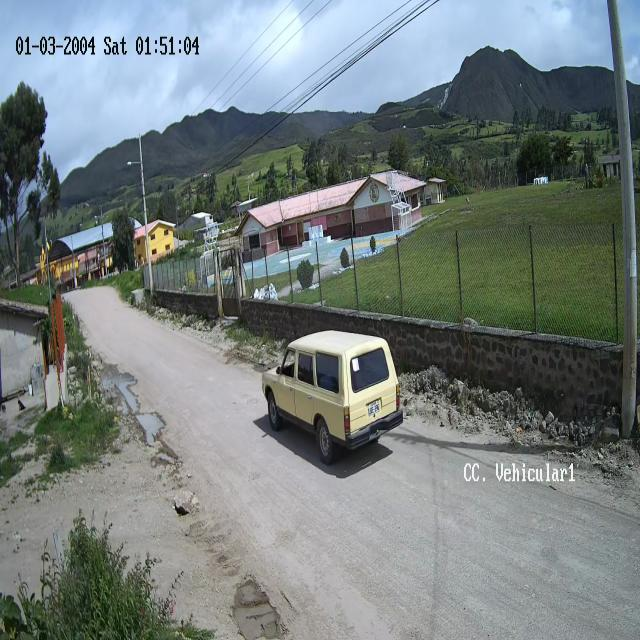SUV: (263, 328, 404, 462)
